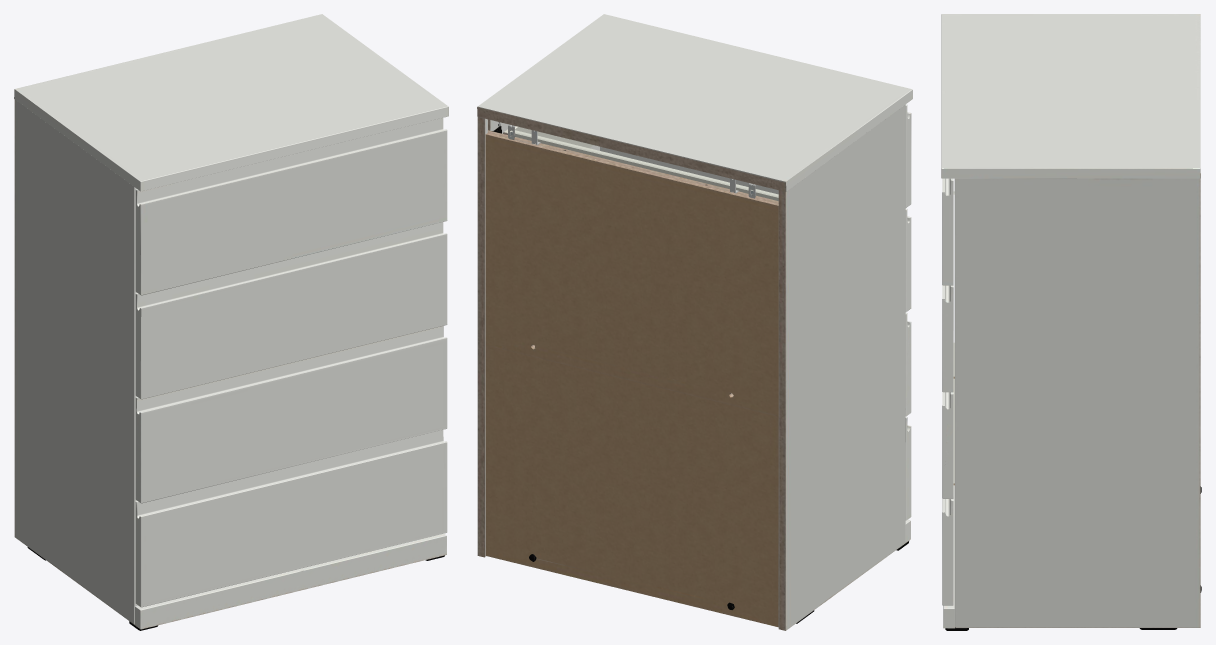
The picture shows the model from 3 angles, left to right: view 1: azimuth 30°, elevation 25°; view 2: azimuth 150°, elevation 25°; view 3: azimuth 270°, elevation 25°; orthographic projection. The views are drawn at different scales.
Parts seen in each view (by area): view 1: 40627537-STORKLINTA001; view 2: 40627537-STORKLINTA001; view 3: 40627537-STORKLINTA001.
Boxes of the visible parts, x1,y1,x2,y2 form: 40627537-STORKLINTA001: (14,14,448,630); 40627537-STORKLINTA001: (477,14,912,630); 40627537-STORKLINTA001: (941,14,1201,630).
Size of the model in its own units: 0.6991 by 0.9775 by 0.4979.
Materials: 1 (1 with a texture image).
